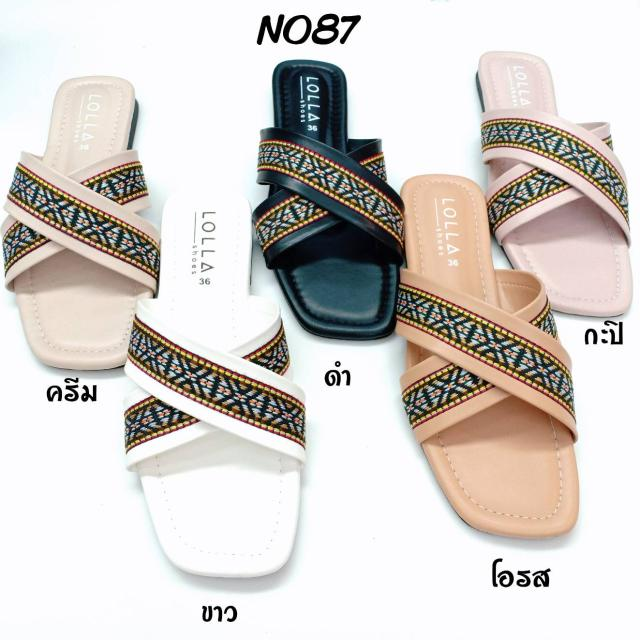black: (268, 62, 405, 338)
cream: (13, 74, 149, 368)
kapi: (470, 52, 628, 313)
orot: (398, 176, 579, 537)
white: (137, 188, 299, 575)
